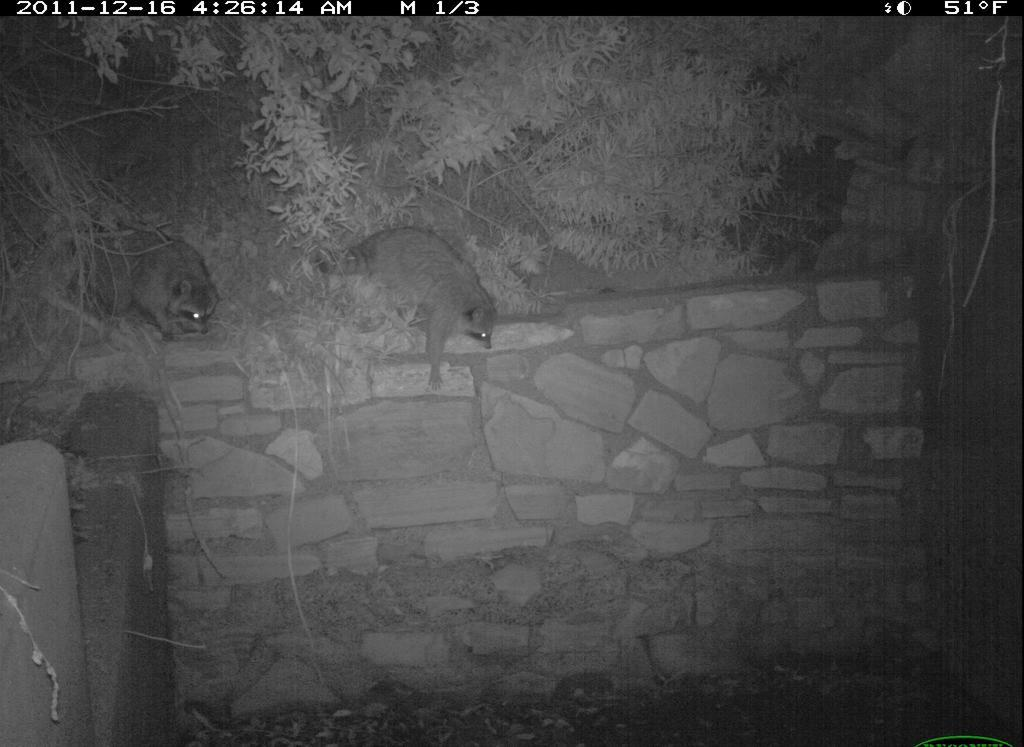raccoon: (305, 219, 501, 396), (41, 203, 227, 356)
